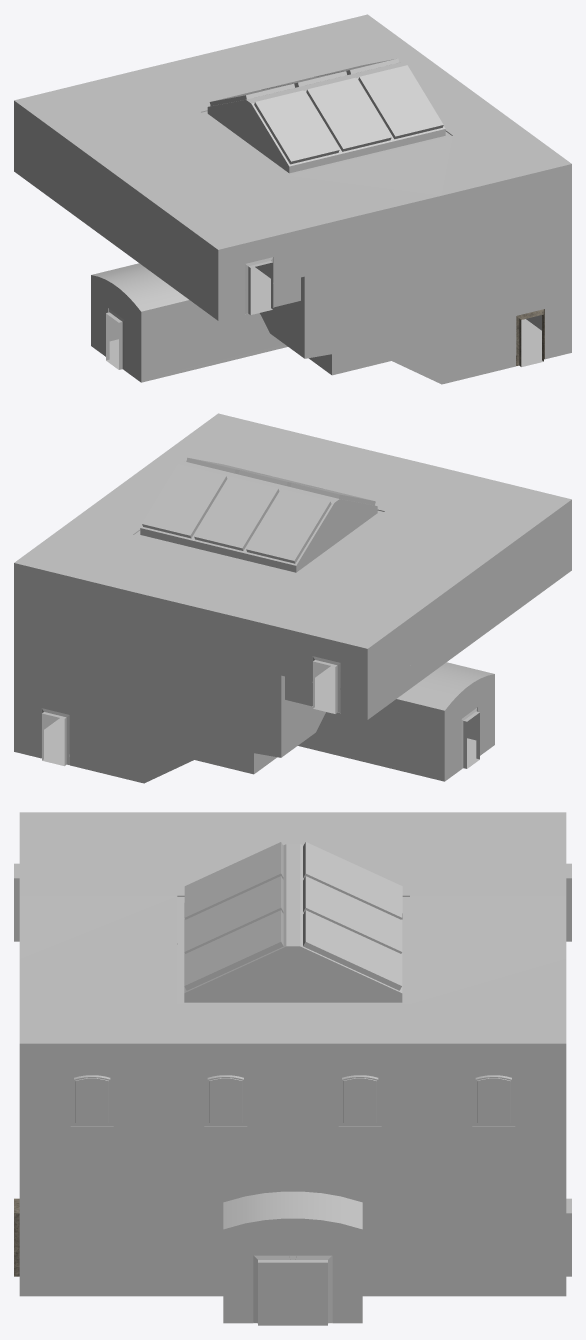
File: FoyerRoom.FBX
3 views of the same model, one above another, from view 1: azimuth 30°, elevation 25°; view 2: azimuth 150°, elevation 25°; view 3: azimuth 270°, elevation 25° (orthographic). The views are drawn at different scales.
Parts seen in each view (by area): view 1: FoyerRoom_SectionA, FoyerRoom_SectionB, FoyerRoom_SectionD, FoyerRoom_SectionC, FoyerRoom_Hall; view 2: FoyerRoom_SectionC, FoyerRoom_SectionD, FoyerRoom_SectionB, FoyerRoom_SectionA, FoyerRoom_Hall; view 3: FoyerRoom_SectionC, FoyerRoom_SectionA, FoyerRoom_SectionB, FoyerRoom_SectionD, FoyerRoom_Enter.
Part boxes in pixels (left/top/right/bottom): FoyerRoom_SectionA: left=245, top=65, right=571, bottom=384; FoyerRoom_SectionB: left=116, top=144, right=441, bottom=374; FoyerRoom_SectionD: left=14, top=69, right=243, bottom=245; FoyerRoom_SectionC: left=142, top=14, right=468, bottom=144; FoyerRoom_Hall: left=91, top=263, right=287, bottom=382; FoyerRoom_SectionC: left=14, top=461, right=340, bottom=783; FoyerRoom_SectionD: left=144, top=543, right=469, bottom=773; FoyerRoom_SectionB: left=342, top=468, right=571, bottom=644; FoyerRoom_SectionA: left=116, top=413, right=443, bottom=543; FoyerRoom_Hall: left=298, top=662, right=494, bottom=781; FoyerRoom_SectionC: left=283, top=842, right=571, bottom=1296; FoyerRoom_SectionA: left=14, top=842, right=293, bottom=1296; FoyerRoom_SectionB: left=14, top=812, right=293, bottom=941; FoyerRoom_SectionD: left=293, top=812, right=571, bottom=941; FoyerRoom_Enter: left=223, top=1191, right=362, bottom=1325.
Size of what is drawn, in the model's own units: 2106 by 1163 by 1890.
